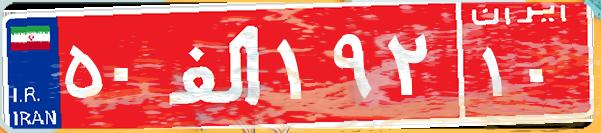0: (110, 28, 158, 105), (525, 38, 570, 115)
1: (273, 28, 330, 110), (475, 38, 525, 113)
2: (385, 28, 445, 110)
5: (57, 26, 110, 107)
9: (330, 28, 385, 110)
الف: (158, 15, 273, 115)
